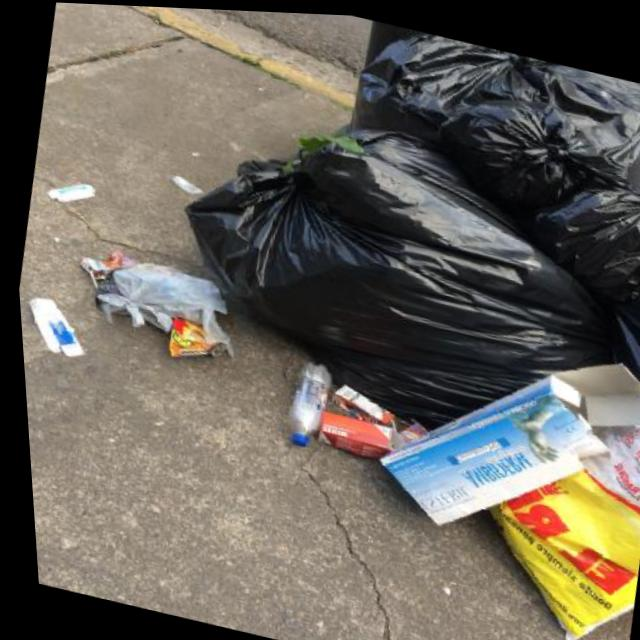cardboard: (359, 307, 640, 573), (315, 409, 410, 466), (20, 293, 94, 361), (74, 242, 141, 298), (328, 381, 404, 430), (46, 176, 98, 211), (395, 418, 432, 447)
plastic: (146, 82, 637, 460), (334, 19, 640, 242), (456, 348, 640, 640), (520, 166, 640, 313), (87, 250, 237, 351), (278, 356, 340, 453), (165, 314, 234, 370), (170, 174, 206, 199)
